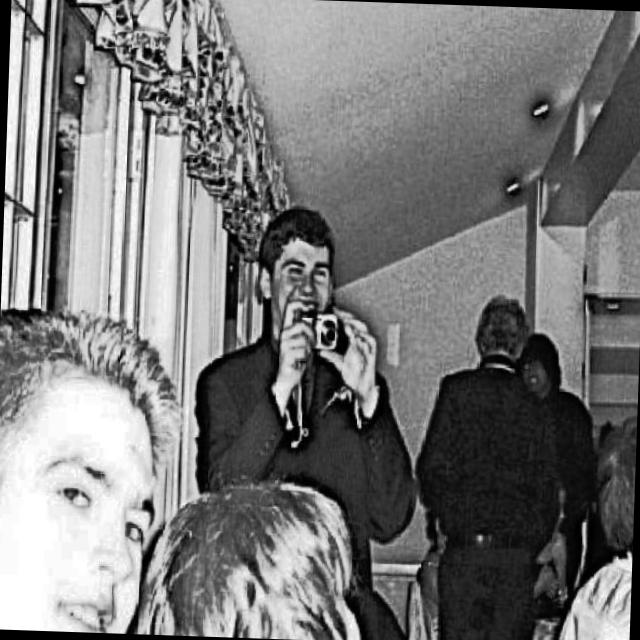Person: (190, 201, 427, 548), (0, 291, 185, 635), (407, 292, 564, 640), (517, 318, 599, 523)
